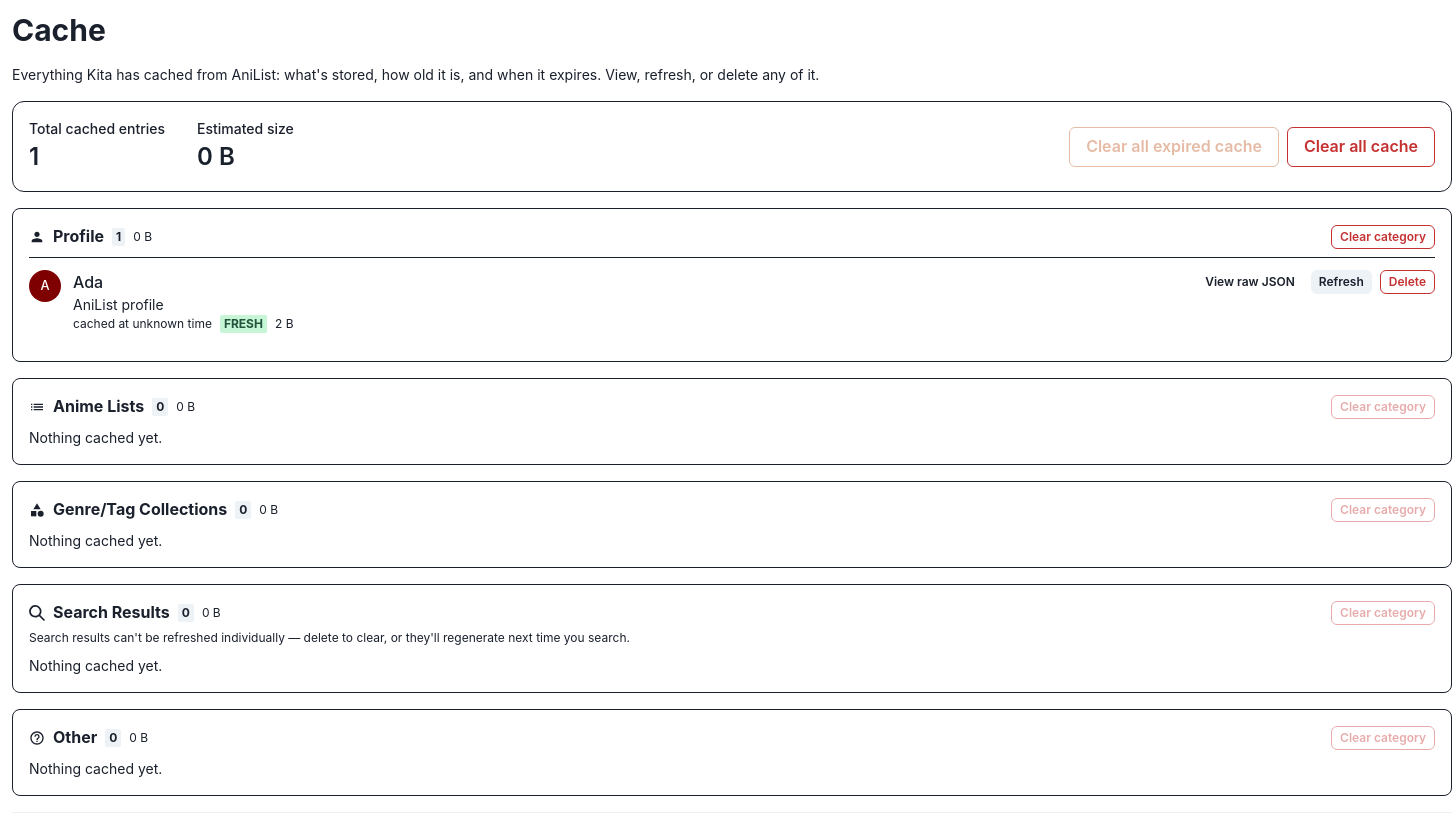
Scenario: CacheTab › refreshing the profile entry succeeds: caches the fresh data and shows a success toast
Click the button with test id "cache-entry-refresh-profile". click: (1341,282)
box: [1311,270,1372,294]
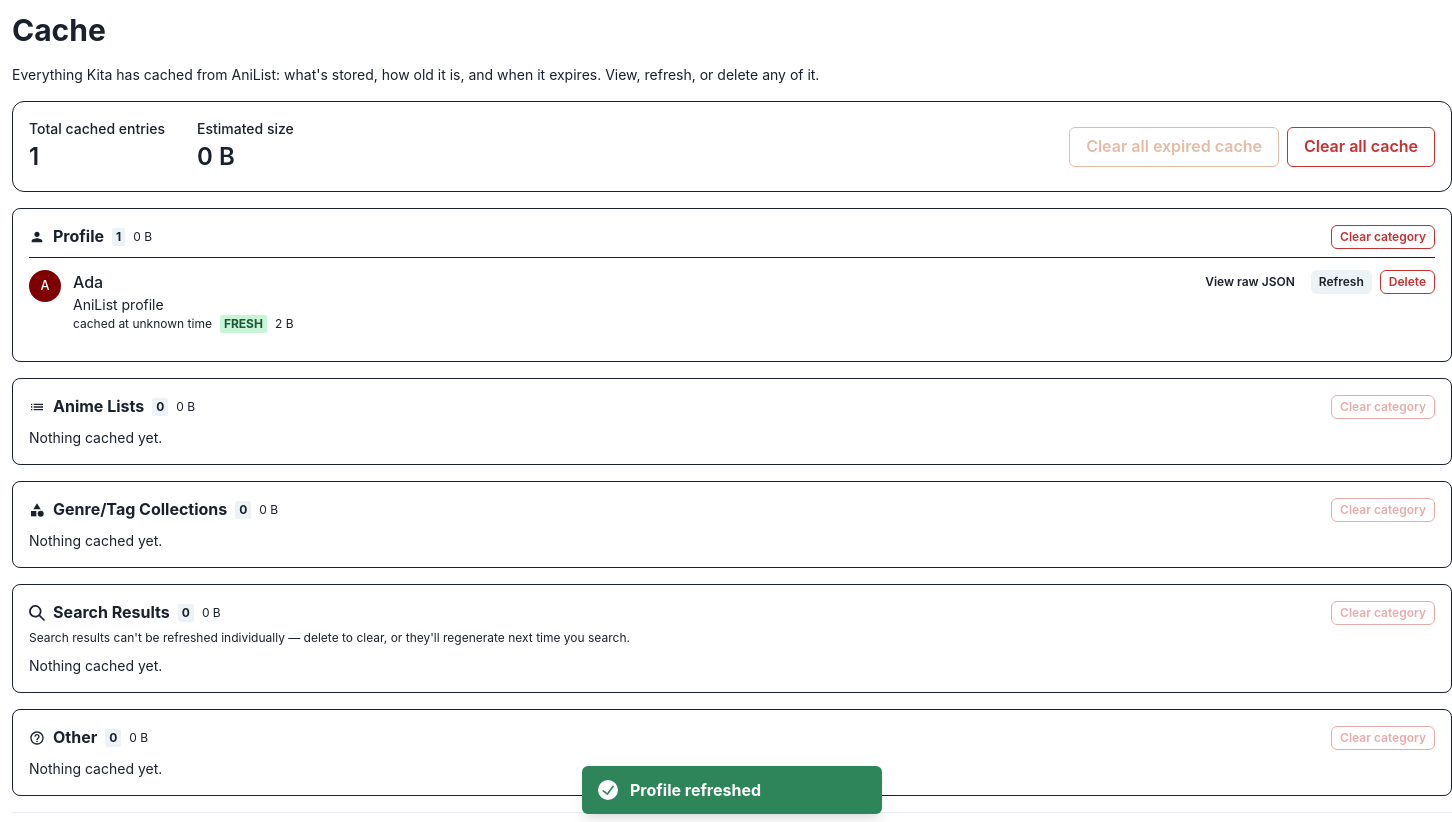
Now the text "Profile refreshed" is shown, box [630,780,761,800]
